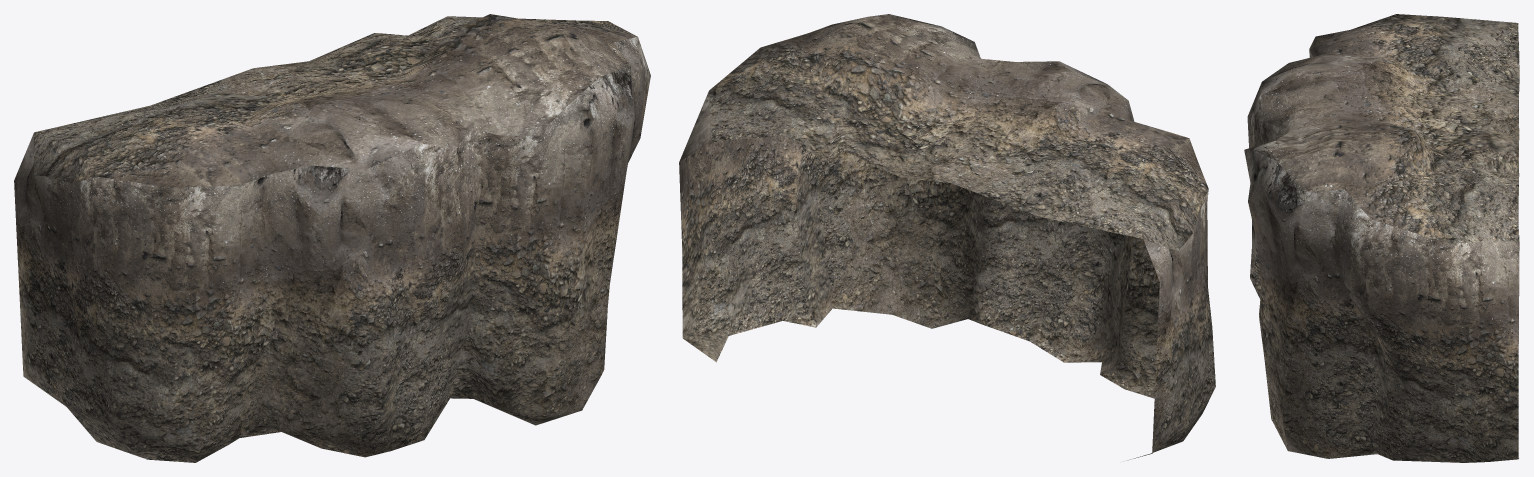
File: Cliff1.fbx
3 renders of one model, left to right at view 1: azimuth 30°, elevation 25°; view 2: azimuth 150°, elevation 25°; view 3: azimuth 270°, elevation 25°, orthographic. The views are drawn at different scales.
Parts seen in each view (by area): view 1: polySurface3; view 2: polySurface3; view 3: polySurface3.
Boxes of the visible parts, box(x1,y1,x2,y2) form: polySurface3: box(14, 14, 650, 462); polySurface3: box(679, 14, 1215, 460); polySurface3: box(1244, 14, 1519, 462).
Size of the model in its own units: 8.23 by 4.93 by 3.94.
